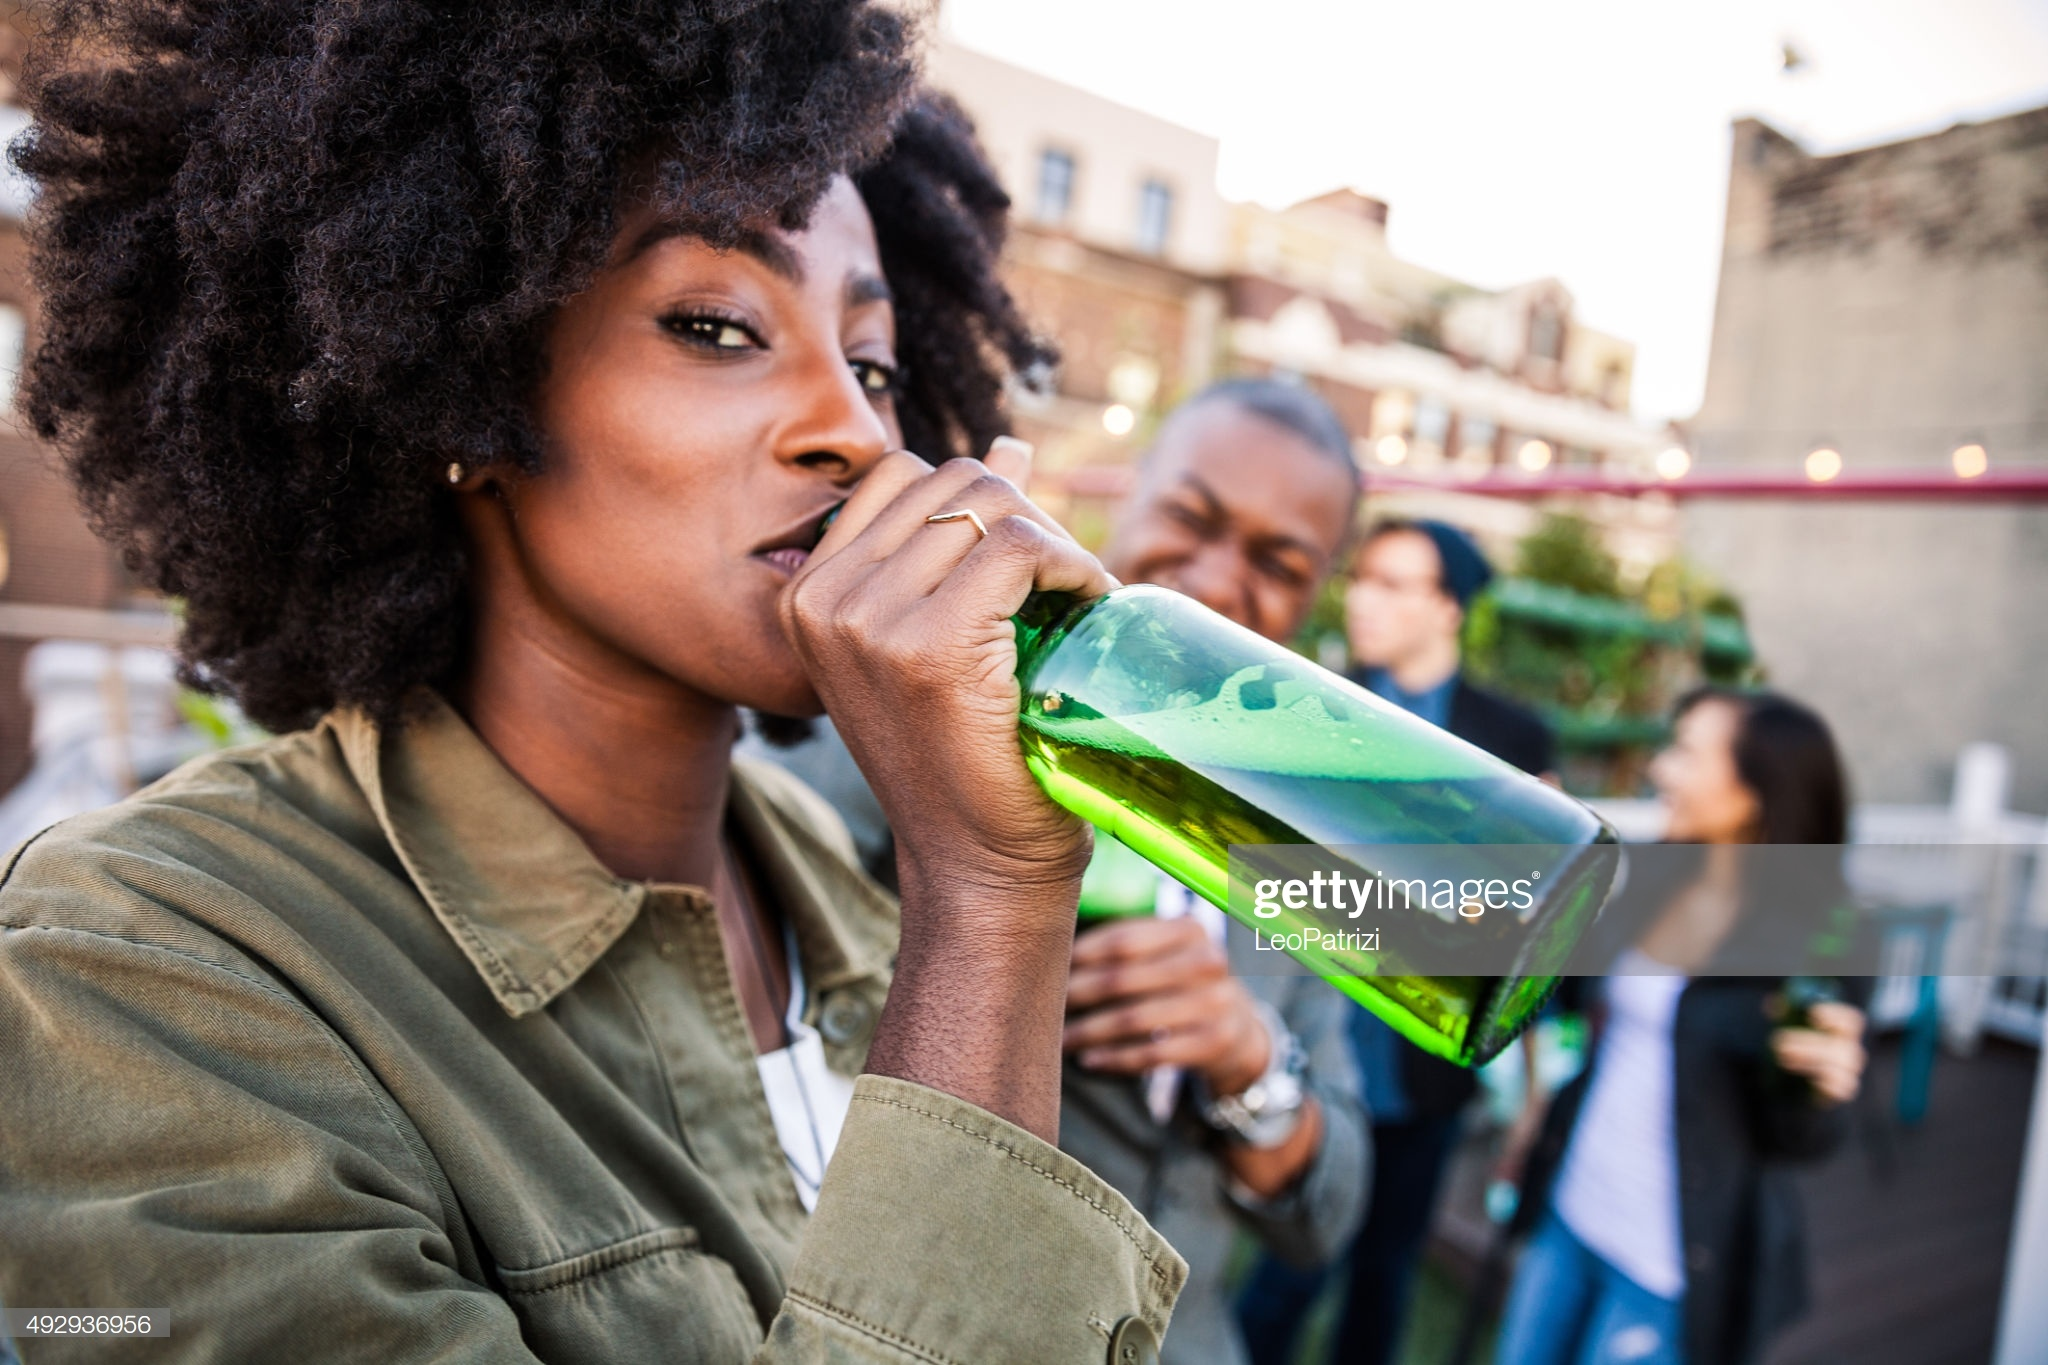beerBottle: (946, 551, 1625, 1101)
